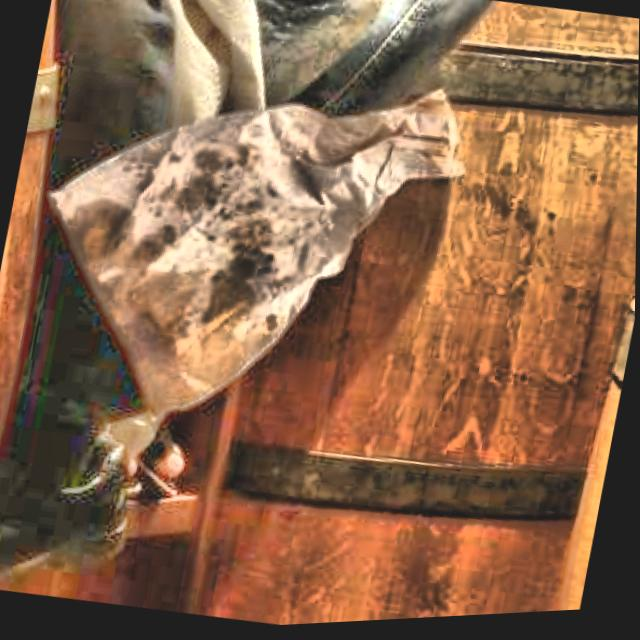Paper-bag: (28, 29, 483, 465)
